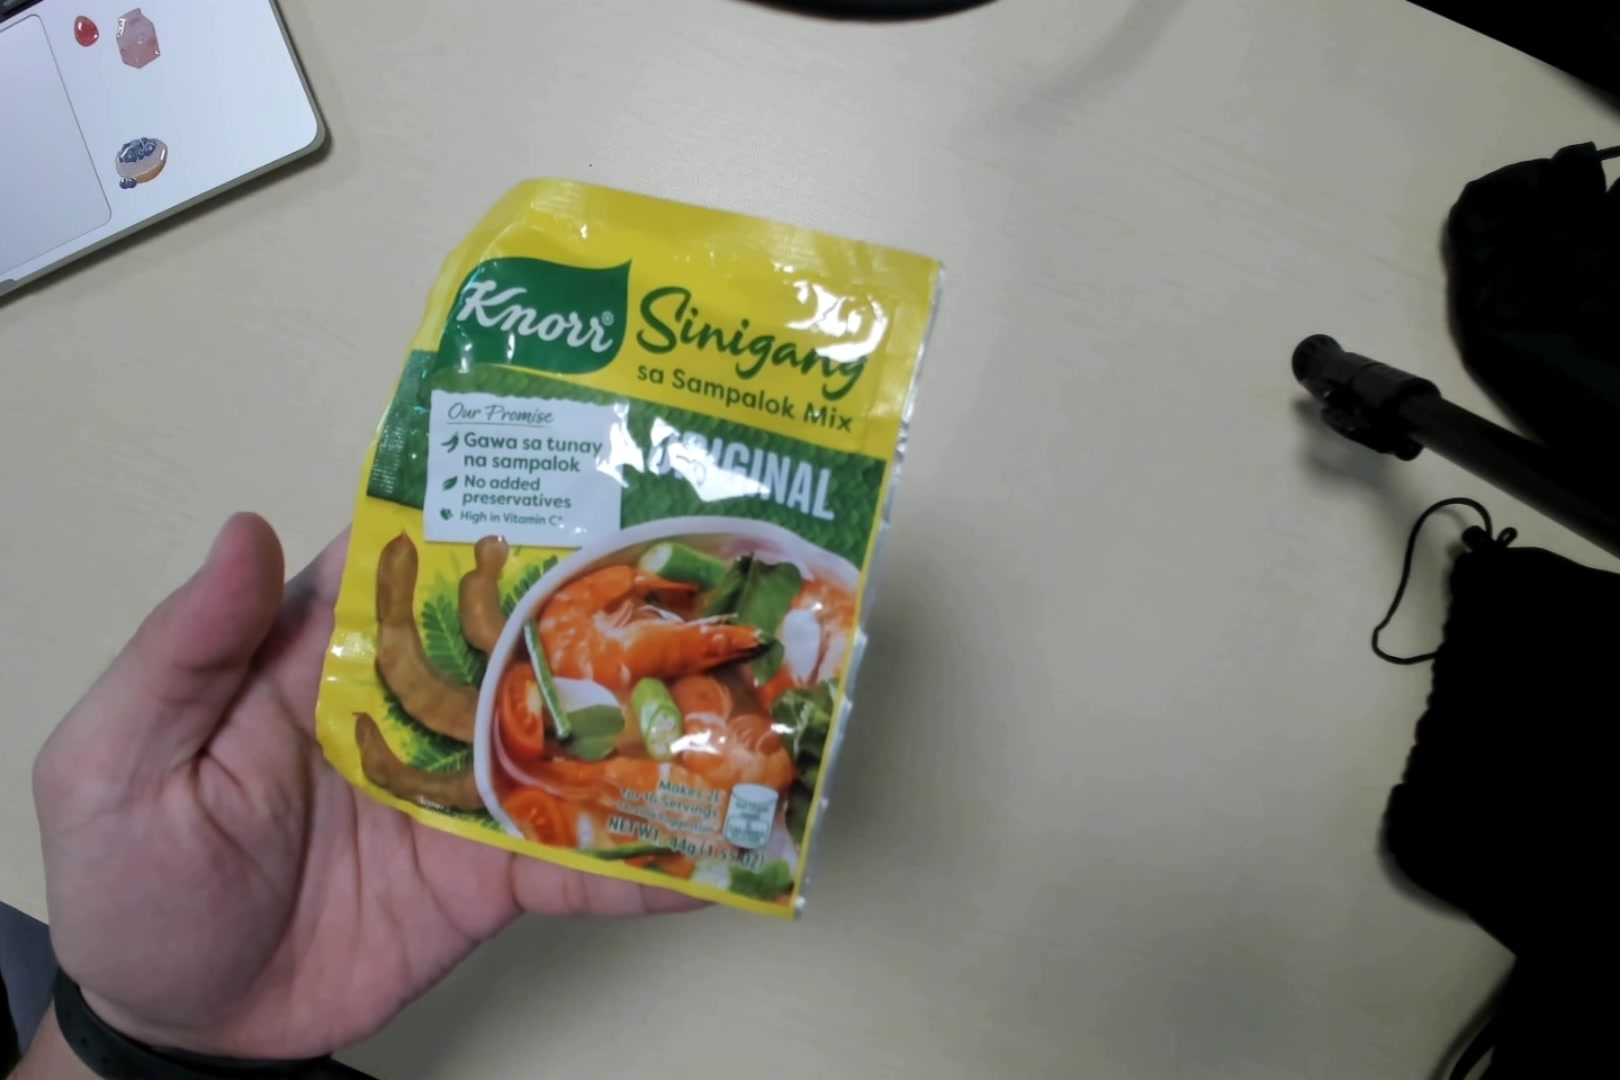SoupStock_0-99g_NonHalal_NonHealthy: (344, 199, 893, 909)
